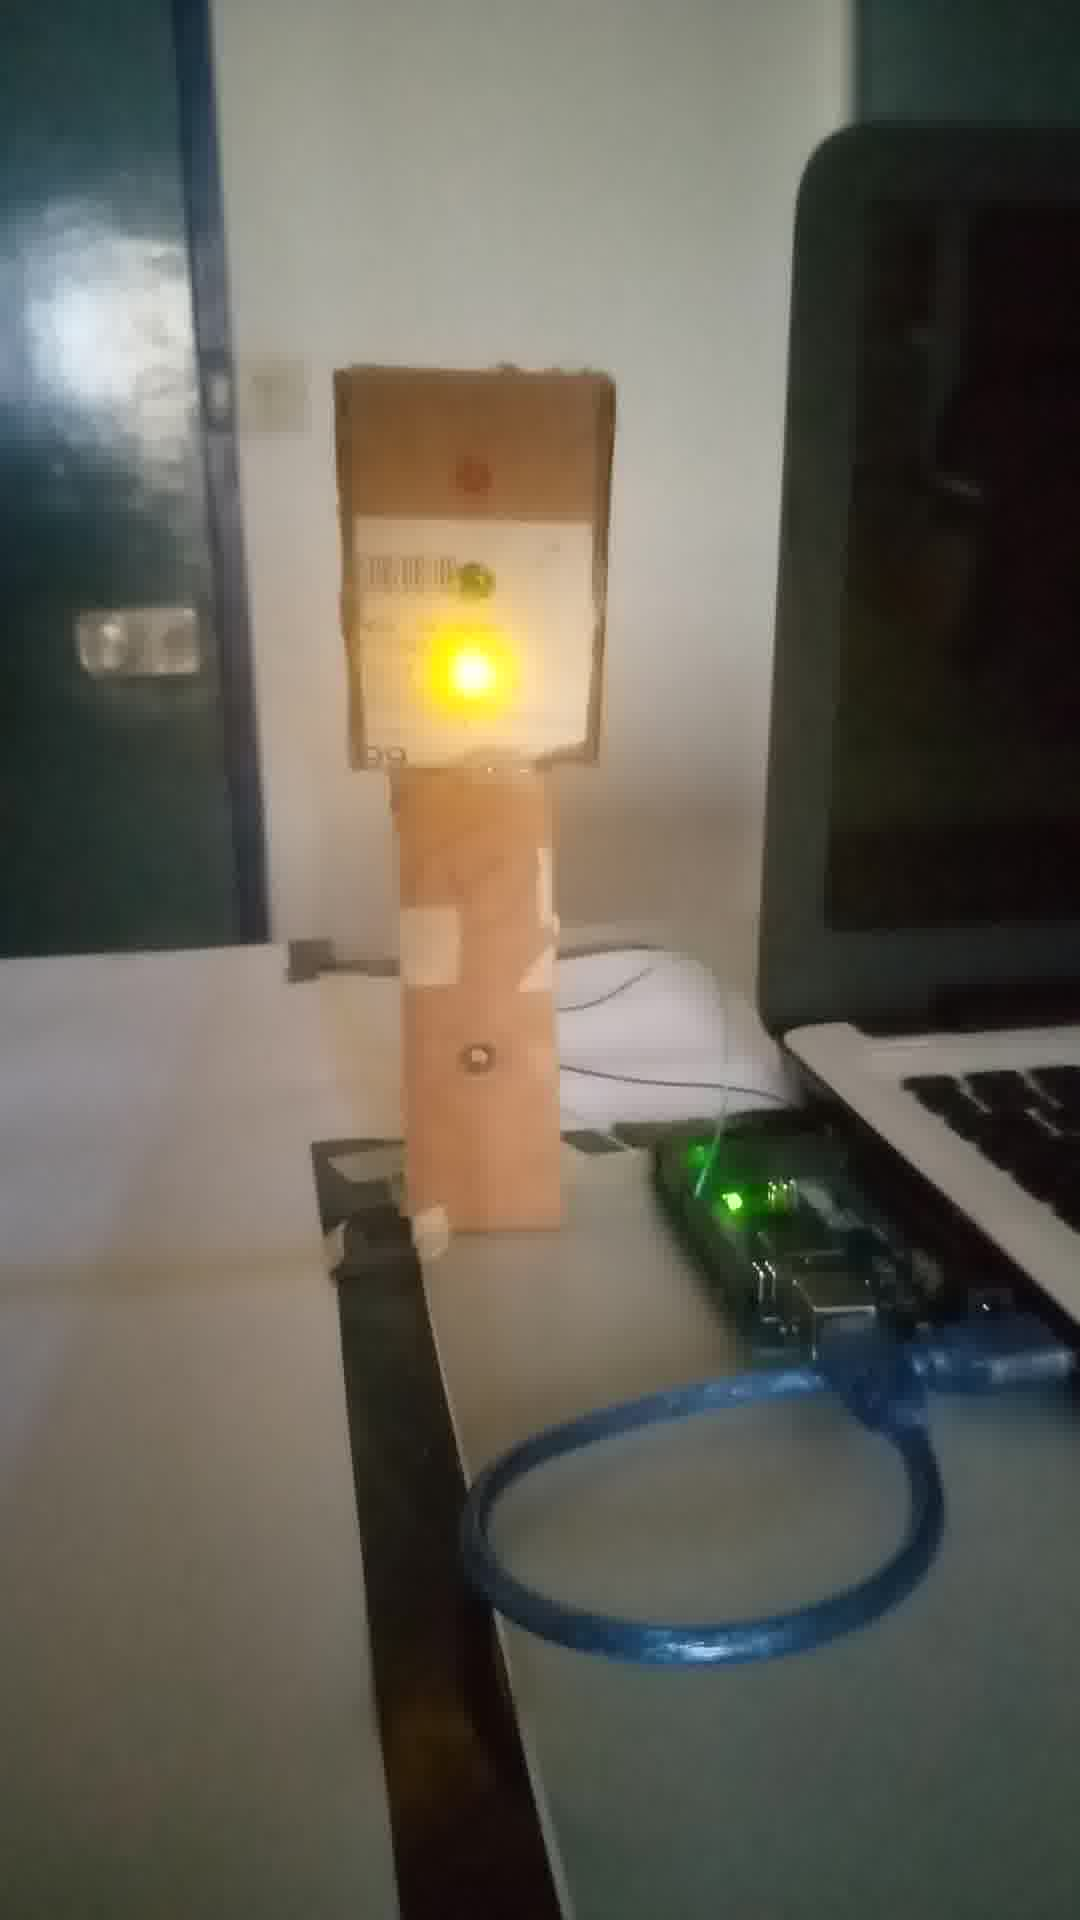green: (335, 382, 597, 781)
